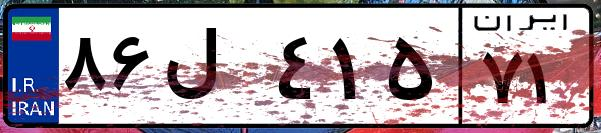1: (330, 28, 385, 110), (525, 38, 570, 115)
4: (270, 28, 330, 110)
5: (385, 28, 445, 110)
6: (110, 28, 158, 98)
7: (475, 38, 525, 113)
8: (57, 26, 110, 100)
ل: (158, 20, 270, 120)
